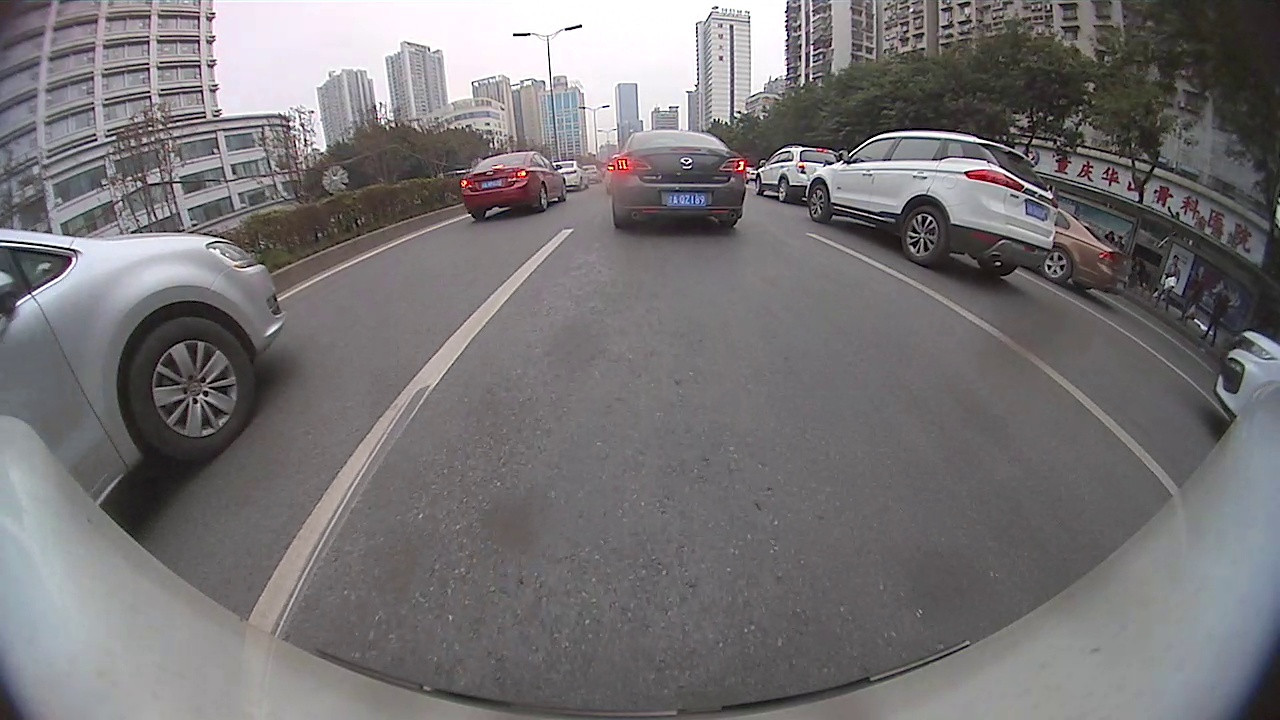car: (2, 228, 287, 505), (805, 129, 1059, 277), (612, 127, 746, 233), (1032, 204, 1129, 293), (460, 149, 568, 220), (1212, 326, 1278, 427), (751, 144, 849, 205), (548, 158, 584, 194), (579, 162, 602, 187)
front: (125, 316, 259, 459), (1043, 245, 1072, 281), (806, 184, 830, 221)
person: (1213, 284, 1229, 343), (1191, 268, 1206, 328), (1166, 255, 1180, 310)
rear: (900, 206, 948, 266), (776, 175, 786, 203), (541, 186, 550, 211)
